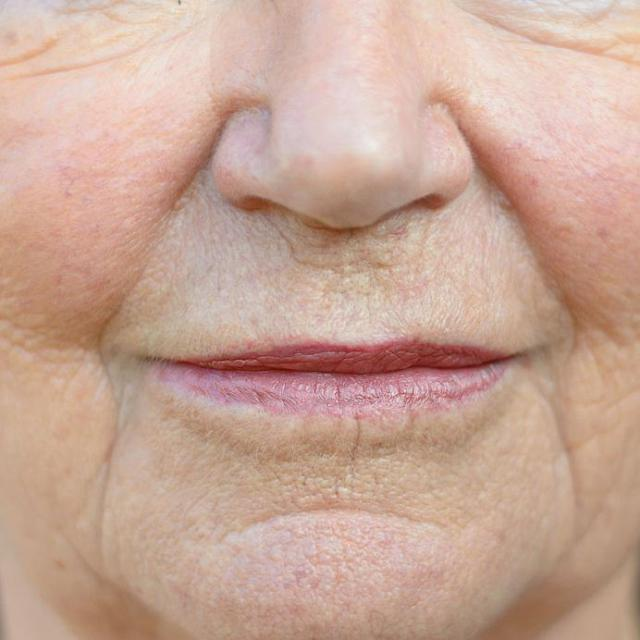Wrinkles: (548, 352, 634, 559), (0, 1, 199, 82), (76, 290, 130, 579), (455, 1, 640, 66)
